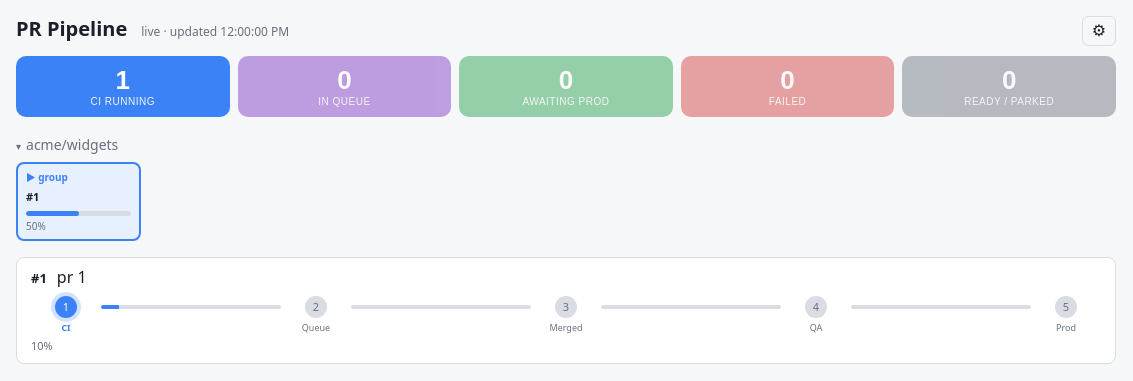
Test: Repo expand/collapse › collapsed header hides QueueTrain
Expected: the text "▶ group" is shown, [26,170,68,184]
Click the button "▾ acme/widgets" at (72, 145), box [16,135,1116,154]
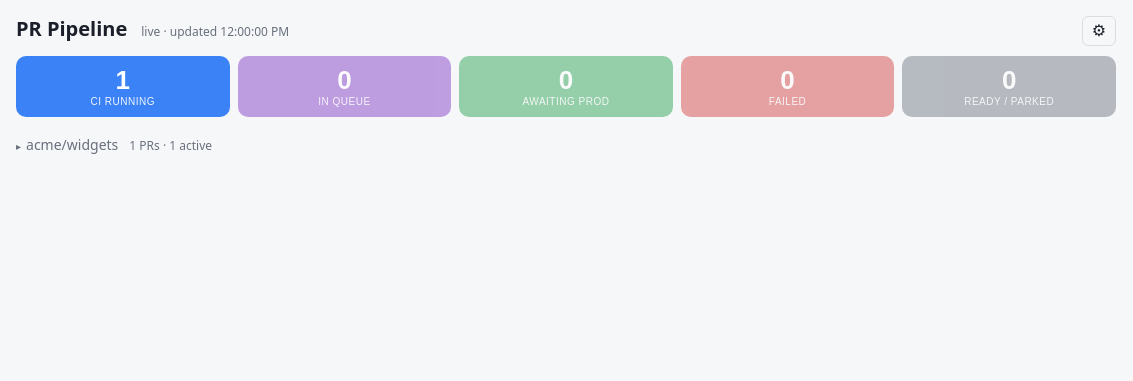
Now the text "▶ group" is gone
